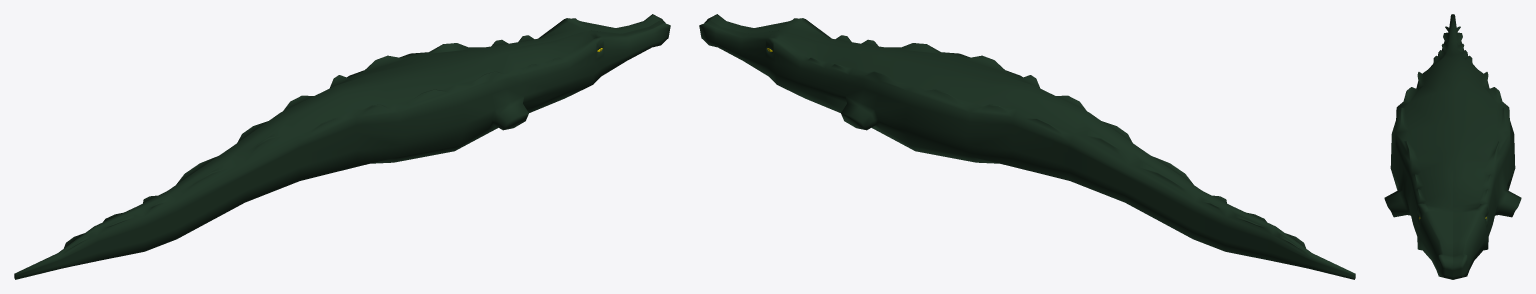
The model's file is Crocodile2.fbx.
3 views of the same model, side by side, from view 1: azimuth 30°, elevation 25°; view 2: azimuth 150°, elevation 25°; view 3: azimuth 270°, elevation 25° (orthographic). The views are drawn at different scales.
Visible parts, largest first — view 1: Sphere.003; view 2: Sphere.003; view 3: Sphere.003.
Part boxes in pixels (x1,y1,x2,y2): Sphere.003: (14, 14, 670, 279); Sphere.003: (699, 14, 1355, 279); Sphere.003: (1384, 14, 1521, 279).
Size of the model in its own units: 818 by 135 by 134.
Materials: 2 (1 with a texture image).
